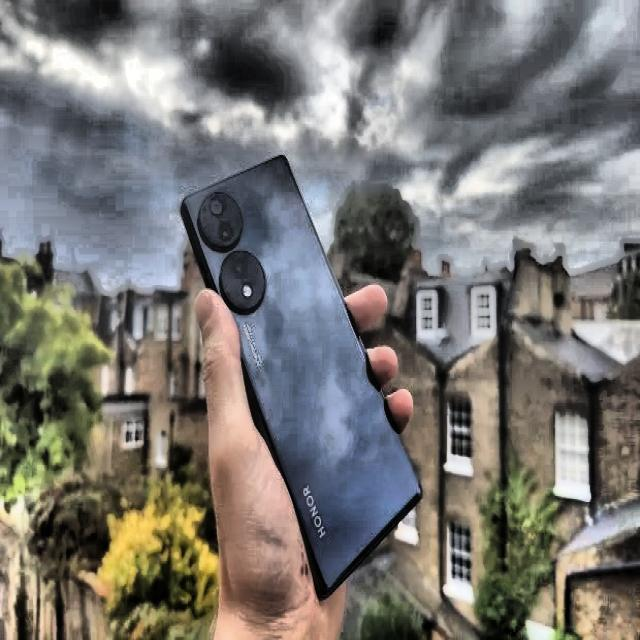Phone: (177, 150, 426, 606)
